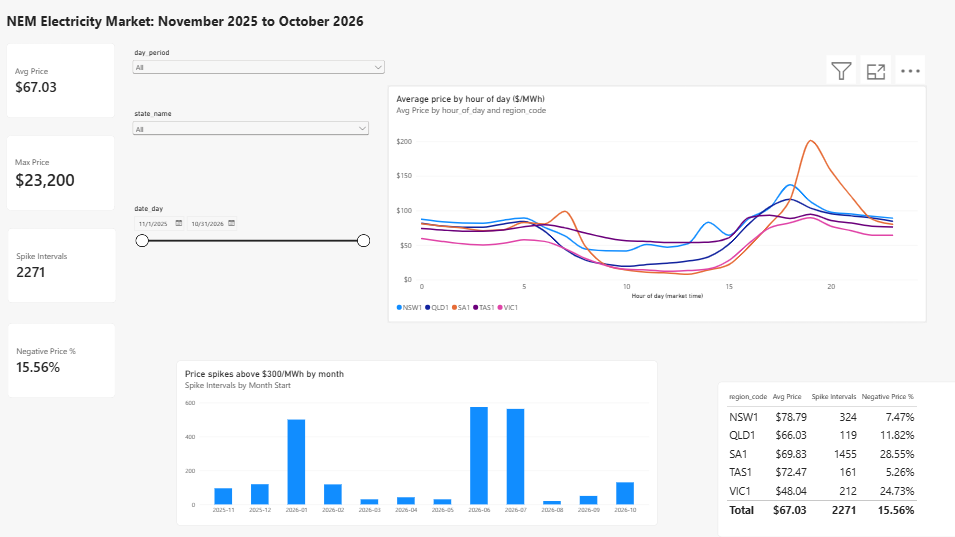

The page's visual inventory and layout, read from the dashboard file:
{"tool":"powerbi","page":{"name":"Market overview","canvas":[1920,1080],"ordinal":0},"visuals":[{"type":"tableEx","fields":{"Values":["dim_region.region_code","fact_dispatch_price.Avg Price","fact_dispatch_price.Spike Intervals","fact_dispatch_price.Negative Price %"]},"box":[1437.5,767.5,482.5,312.5],"z":0},{"type":"textbox","box":[14.4,26.8,732.8,72],"z":1000},{"type":"cardVisual","fields":{"Data":["fact_dispatch_price.Avg Price"]},"box":[15,90,217.5,150],"z":2000},{"type":"cardVisual","fields":{"Data":["fact_dispatch_price.Max Price"]},"box":[15,275,217.5,150],"z":3000},{"type":"cardVisual","fields":{"Data":["fact_dispatch_price.Spike Intervals"]},"box":[17.5,460,217.5,150],"z":4000},{"type":"cardVisual","fields":{"Data":["fact_dispatch_price.Negative Price %"]},"box":[17.5,650,215,150],"z":5000},{"type":"lineChart","title":"Average price by hour of day ($/MWh)","fields":{"Category":["dim_interval.hour_of_day"],"Series":["dim_region.region_code"],"Y":["fact_dispatch_price.Avg Price"]},"box":[777.5,175,1077.5,475],"z":6000},{"type":"slicer","fields":{"Values":["dim_region.state_name"]},"box":[262.5,222.5,482.5,202.5],"z":7000},{"type":"slicer","fields":{"Values":["dim_date.date_day"]},"box":[262.5,412.5,482.5,267.5],"z":8000},{"type":"slicer","fields":{"Values":["dim_interval.day_period"]},"box":[262.5,100,514,150],"z":9000},{"type":"clusteredColumnChart","title":"Price spikes above $300/MWh by month","fields":{"Category":["dim_date.Month Start"],"Y":["fact_dispatch_price.Spike Intervals"]},"box":[355,725,962.5,330],"z":10000}]}

Visuals, with their boxes in screenshot pixels (x1, y1, x2, y2), scaled from the page's 1920x1080 canvas onto the 955x537 screenshot:
tableEx - dim_region.region_code x fact_dispatch_price.Avg Price: box=[715, 382, 954, 536]
textbox: box=[7, 13, 372, 49]
cardVisual - fact_dispatch_price.Avg Price: box=[7, 45, 116, 119]
cardVisual - fact_dispatch_price.Max Price: box=[7, 137, 116, 211]
cardVisual - fact_dispatch_price.Spike Intervals: box=[9, 229, 117, 303]
cardVisual - fact_dispatch_price.Negative Price %: box=[9, 323, 116, 398]
"Average price by hour of day ($/MWh)" lineChart: box=[387, 87, 923, 323]
slicer - dim_region.state_name: box=[131, 111, 371, 211]
slicer - dim_date.date_day: box=[131, 205, 371, 338]
slicer - dim_interval.day_period: box=[131, 50, 386, 124]
"Price spikes above $300/MWh by month" clusteredColumnChart: box=[177, 360, 655, 525]
